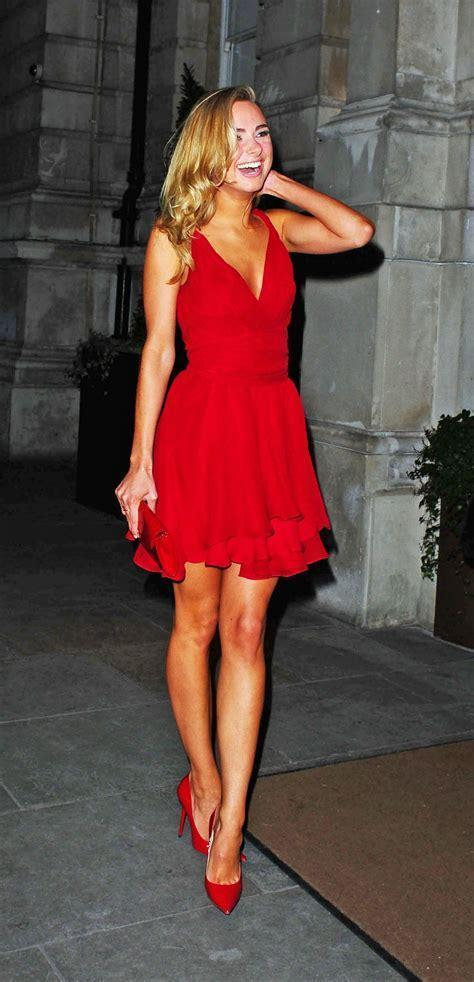dress: (126, 208, 334, 582)
